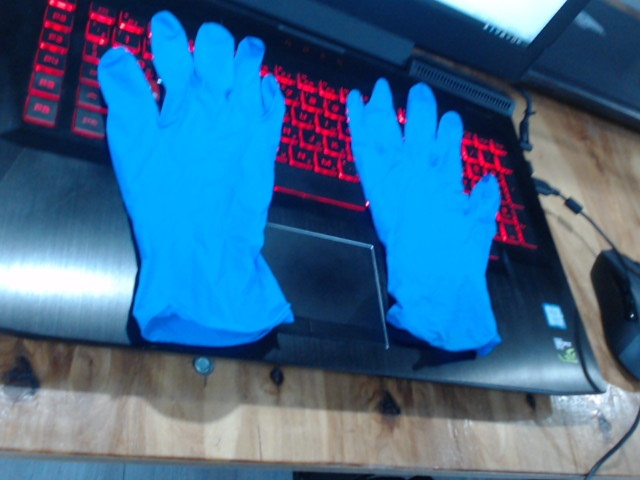medical_glove: (98, 9, 294, 347), (346, 77, 501, 355)
